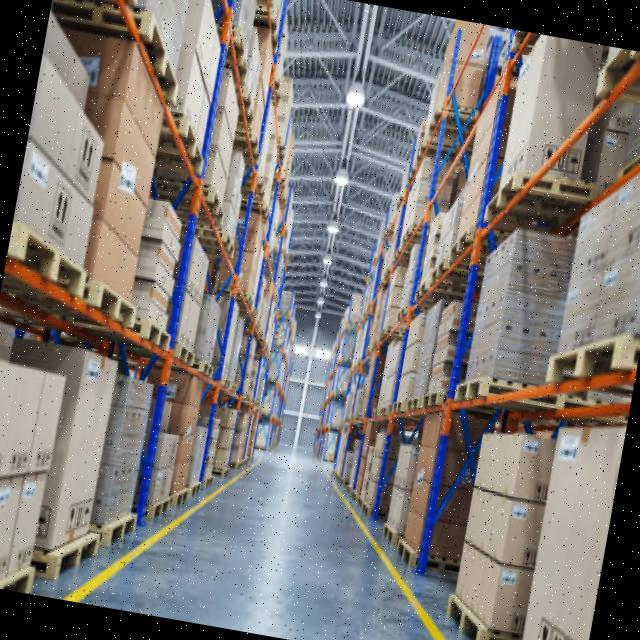Wooden-Pallets: (8, 224, 174, 356), (533, 320, 640, 388), (8, 225, 88, 306), (52, 509, 139, 580), (88, 267, 142, 338), (53, 528, 102, 587), (443, 588, 490, 640), (447, 370, 496, 415), (143, 488, 173, 531)
